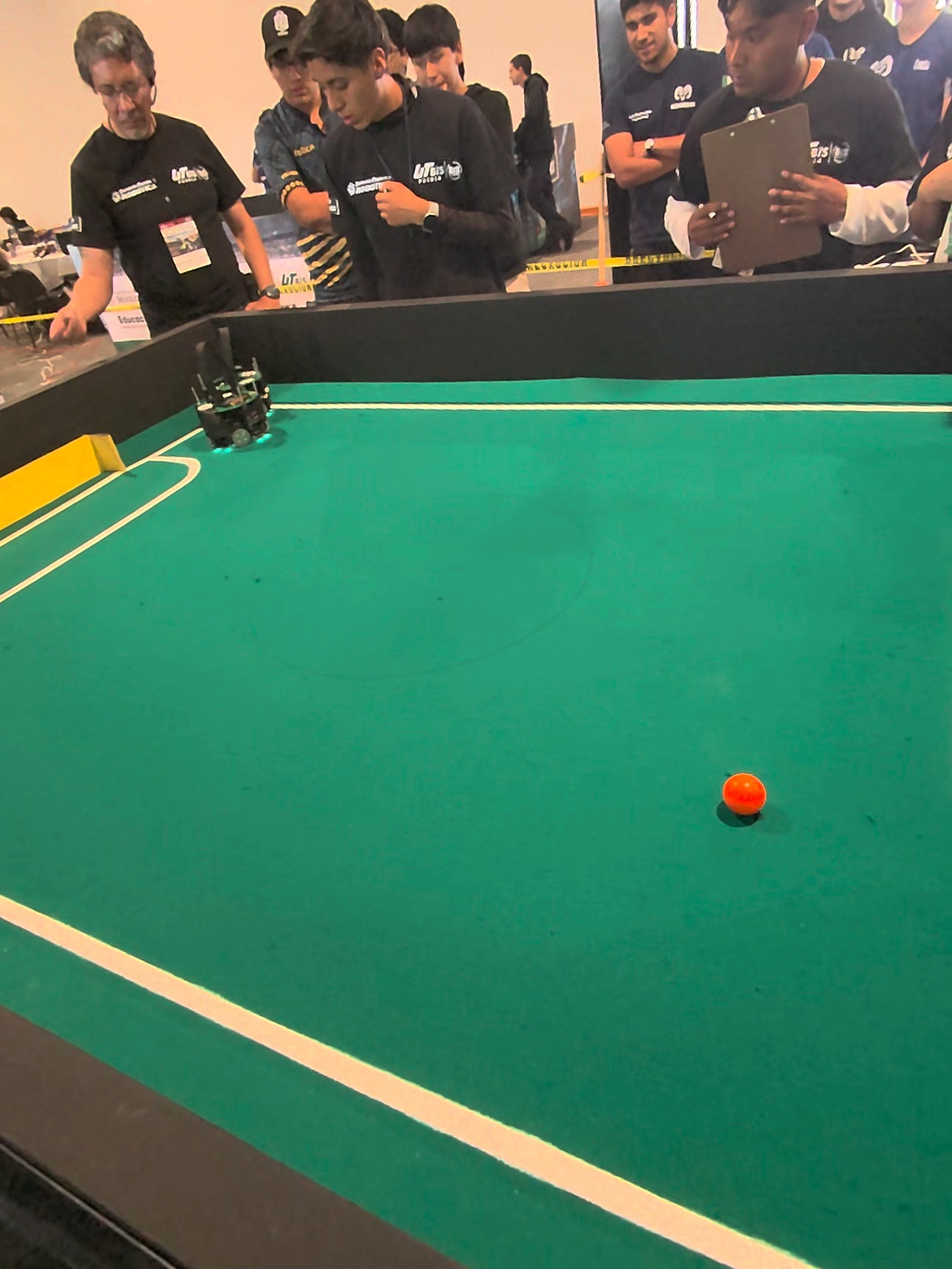Robot: (177, 320, 287, 471)
pelota: (715, 775, 767, 825)
